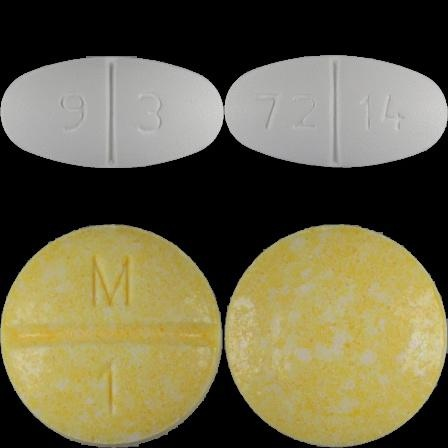55289-919: (0, 0, 224, 224)
